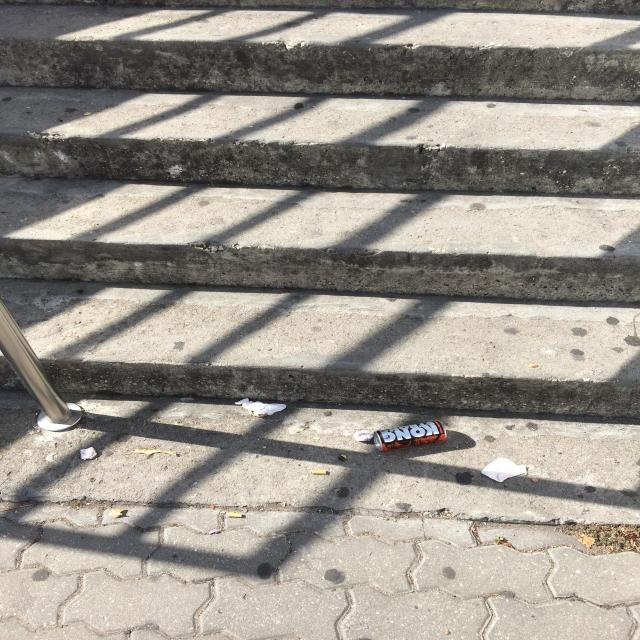litter: (369, 418, 448, 450), (480, 454, 528, 482), (239, 396, 287, 414)
